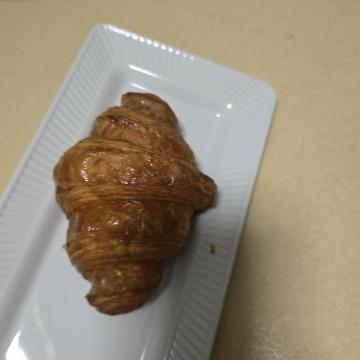croissant: (78, 136, 328, 316)
